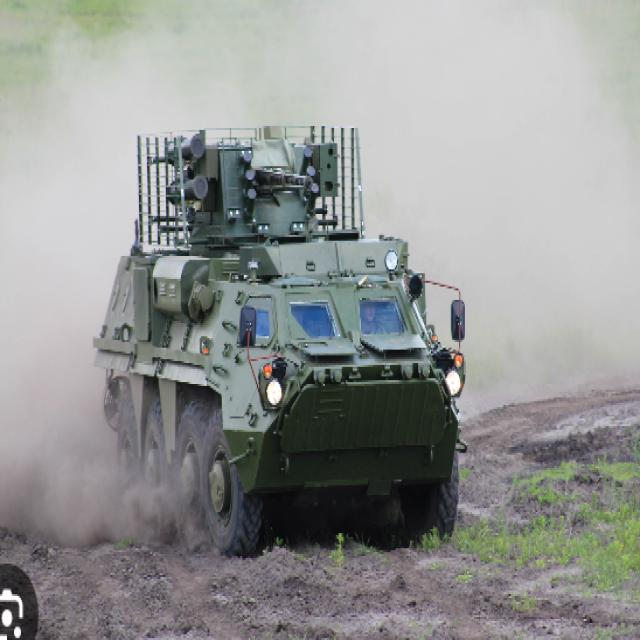MIL_APC: (73, 123, 506, 559)
